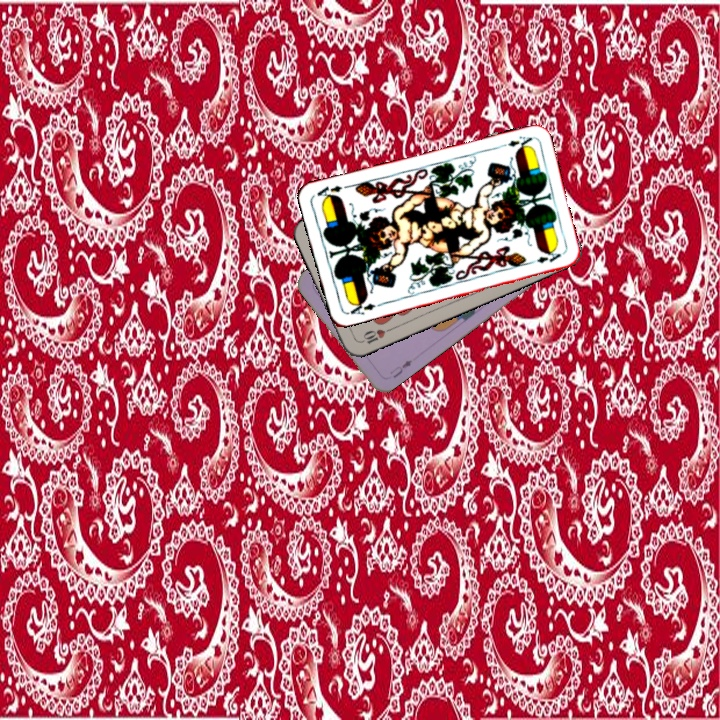EA: (495, 132, 535, 152), (343, 296, 378, 317)
EU: (386, 356, 415, 381)
H10: (356, 324, 394, 347)
